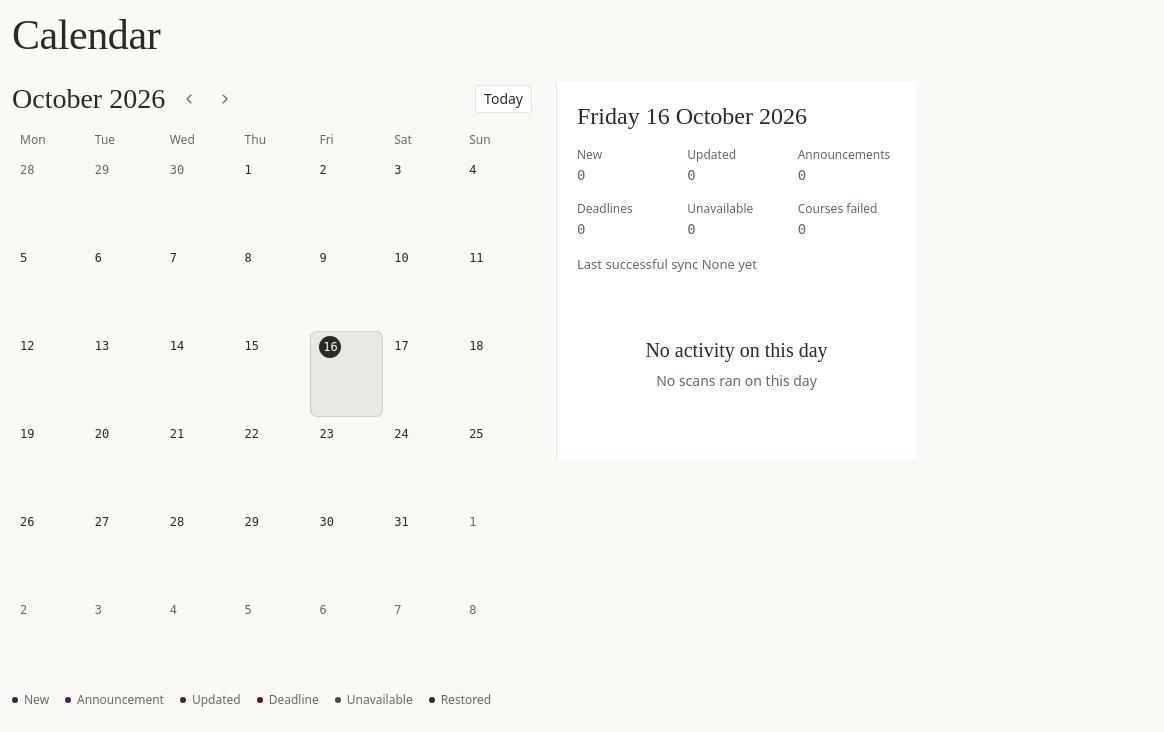
Test: CalendarView keyboard › switches months when selecting a day outside the visible month
Click the 11th cell with class "outside" at (496, 638), box [461, 596, 532, 680]
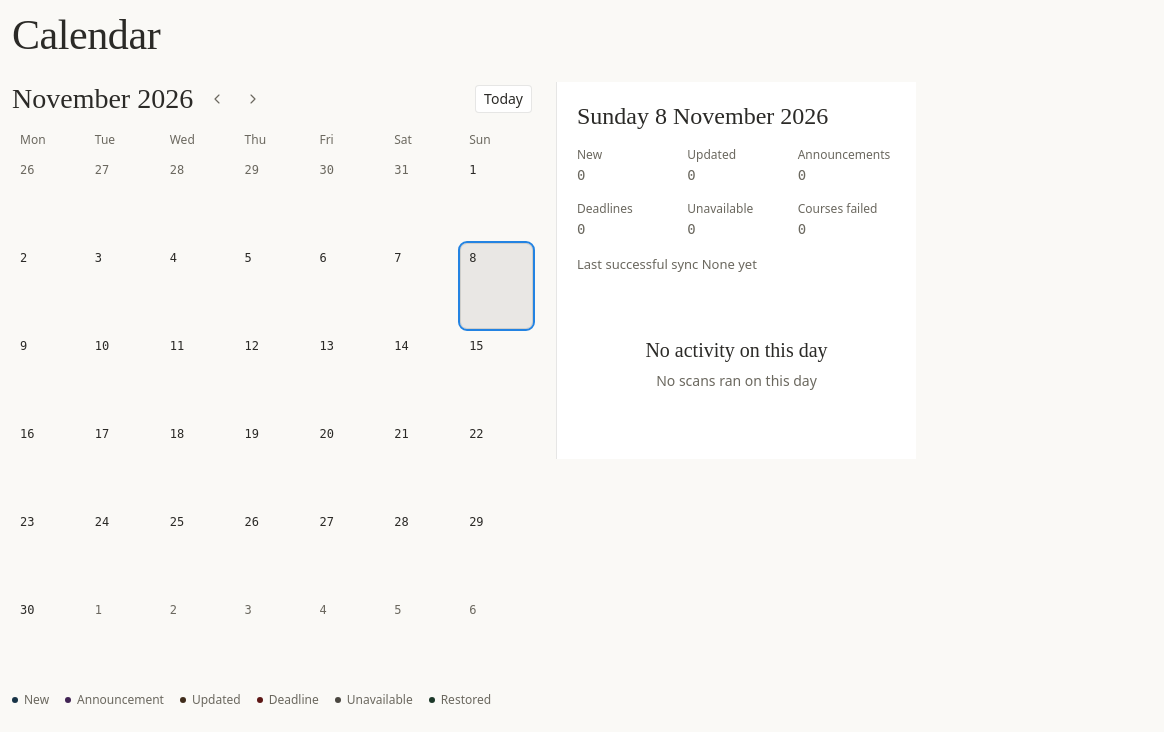
Expected: the text with class "cal-num" reads "8", [469, 251, 476, 265]
